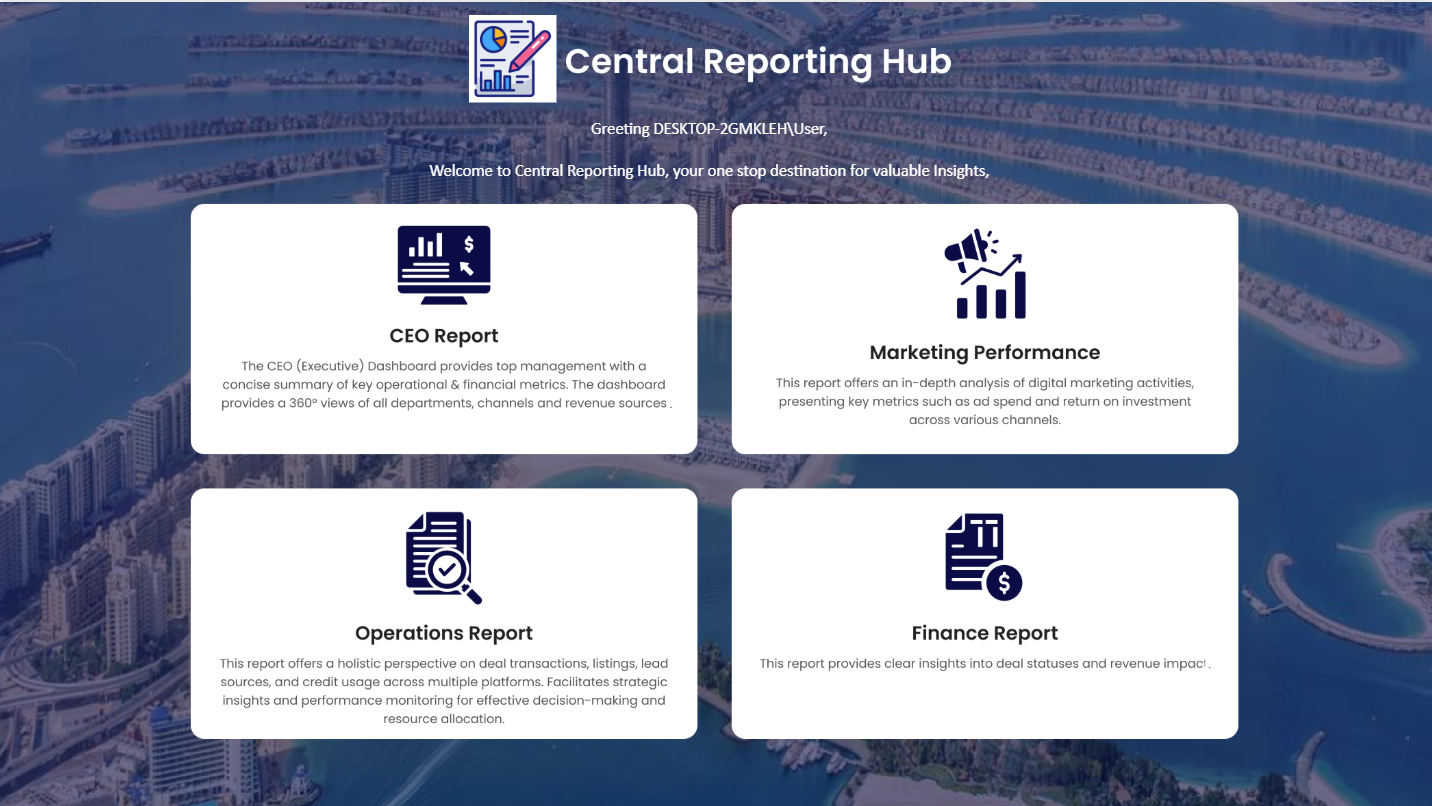

What the dashboard file says about the page in this screenshot:
{"tool":"powerbi","page":{"name":"Home Page","canvas":[1280,720],"ordinal":0},"visuals":[{"type":"shape","box":[731.1,107.9,534.5,504.6],"z":0},{"type":"actionButton","box":[750.3,124.6,497.4,469.8],"z":1000},{"type":"textbox","box":[834.2,385.9,395.5,52.7],"z":2000},{"type":"image","box":[908.5,92.3,179.8,379.9],"z":4000},{"type":"card","fields":{"Values":["_Measures.Greeting Text"]},"box":[809.4,1.4,470.3,59.2],"z":5000},{"type":"textbox","box":[770.6,443.4,459,118.7],"z":6000}]}

Visuals, with their boxes in screenshot pixels (x1, y1, x2, y2), scaled from the page's 1280x720 canvas onto the 1432x806 screenshot:
shape: 818, 121, 1416, 686
actionButton: 839, 139, 1396, 665
textbox: 933, 432, 1376, 491
image: 1016, 103, 1218, 529
card - _Measures.Greeting Text: 906, 2, 1431, 68
textbox: 862, 496, 1376, 629
